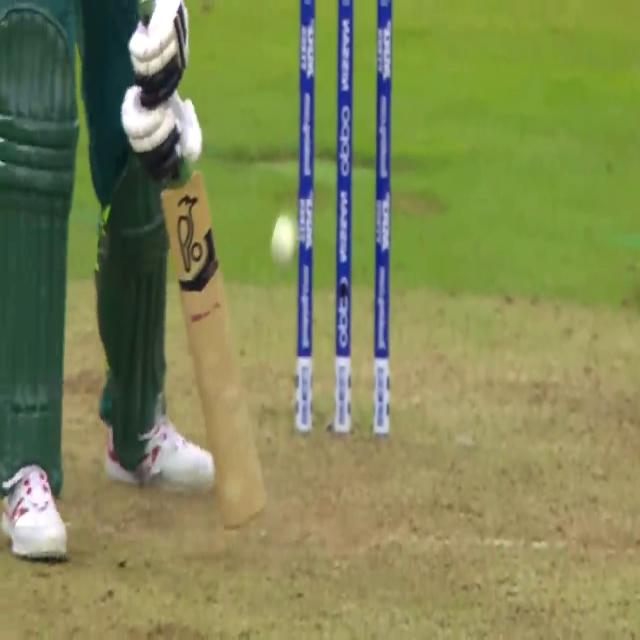ball: (267, 207, 301, 270)
